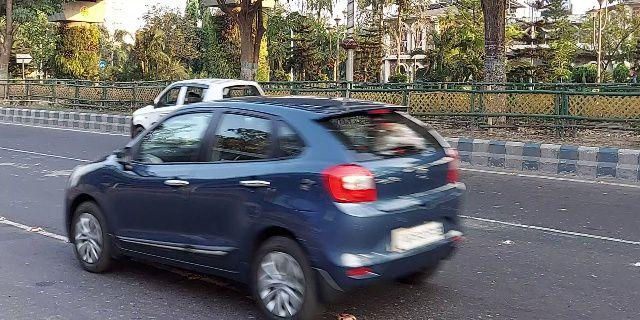Car: (61, 97, 467, 320), (122, 77, 264, 140)
